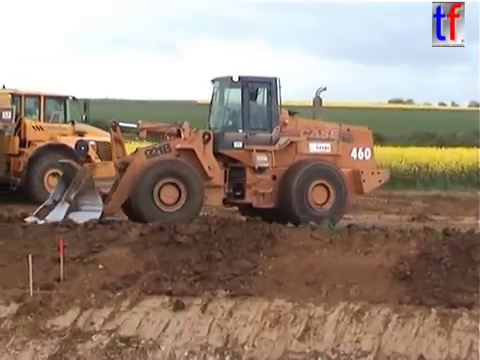truck: (1, 83, 137, 210)
wheel loader: (20, 73, 394, 232)
